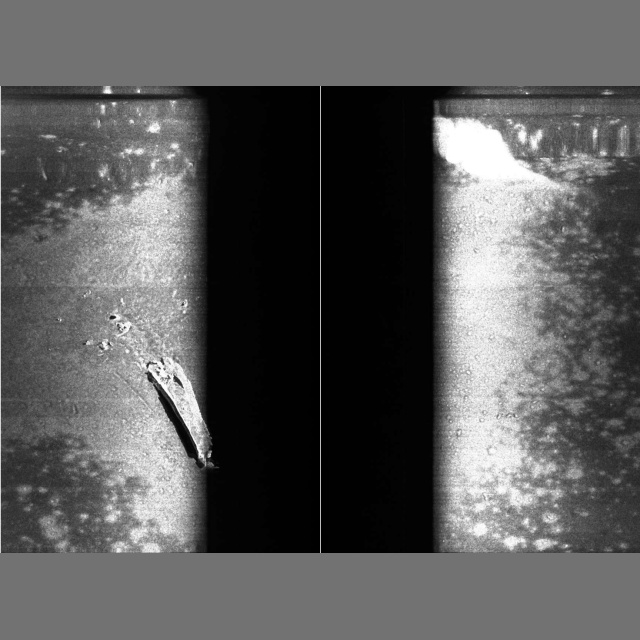Shipwreck: (48, 289, 219, 469)
